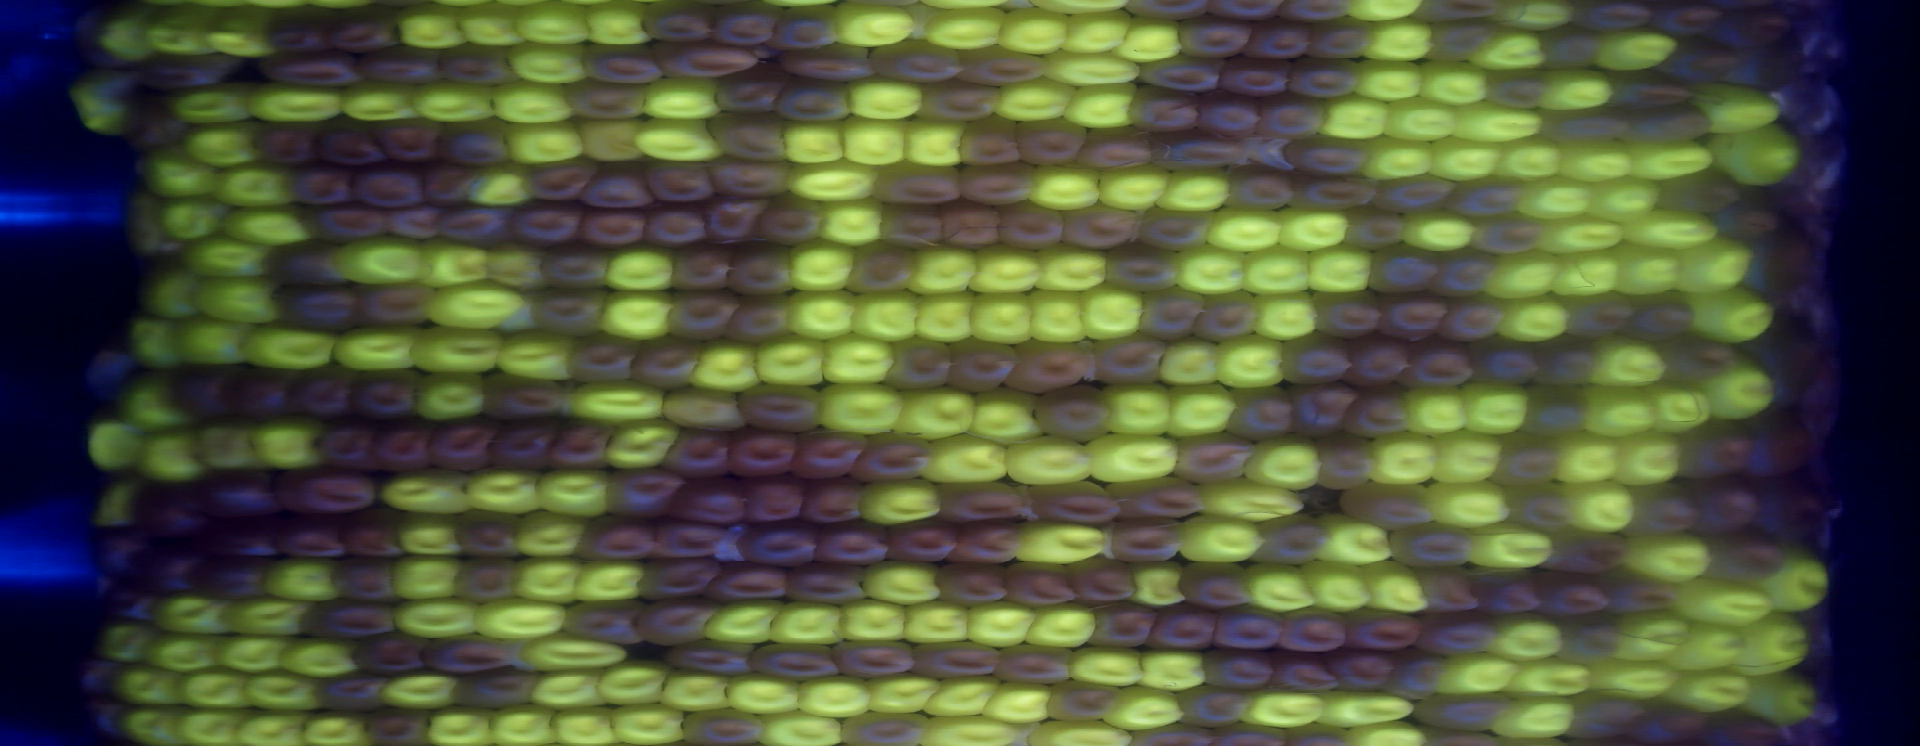fluorescent: (1700, 118, 1806, 190), (1187, 470, 1311, 528), (1684, 73, 1785, 142), (1667, 573, 1778, 635), (1695, 352, 1784, 428), (182, 269, 287, 334), (1080, 429, 1187, 491), (1618, 526, 1716, 593), (997, 429, 1103, 490), (418, 276, 528, 334), (1731, 608, 1820, 681), (1004, 513, 1116, 571), (1171, 510, 1271, 573), (913, 429, 1016, 490), (1686, 282, 1780, 348), (233, 320, 343, 376), (407, 321, 508, 381), (1240, 430, 1326, 501), (773, 154, 883, 209), (809, 377, 909, 439), (1760, 543, 1838, 619), (960, 382, 1049, 448), (1583, 328, 1673, 394), (61, 72, 146, 142), (1660, 617, 1755, 680), (1311, 681, 1420, 735), (238, 76, 351, 127), (331, 230, 430, 289), (373, 462, 473, 521), (109, 369, 192, 439), (566, 375, 673, 429), (1673, 234, 1762, 299), (1607, 605, 1697, 669), (1480, 245, 1572, 307), (629, 109, 729, 167), (525, 463, 618, 524), (683, 332, 768, 399), (891, 380, 982, 442), (851, 475, 949, 533), (853, 556, 951, 614), (493, 325, 583, 387), (518, 630, 634, 677), (958, 239, 1048, 300), (1429, 477, 1520, 538), (1739, 666, 1829, 728), (1485, 688, 1586, 744), (1360, 423, 1442, 490), (197, 1, 280, 67), (246, 410, 334, 473), (1580, 379, 1664, 443), (1427, 646, 1528, 699), (1100, 375, 1182, 441), (216, 201, 318, 254), (1505, 653, 1608, 706), (329, 322, 427, 377), (178, 229, 273, 285), (502, 548, 587, 611), (1464, 516, 1558, 573), (900, 240, 986, 303), (467, 593, 571, 644), (1455, 372, 1536, 439), (187, 414, 269, 479), (1314, 508, 1401, 570), (409, 365, 492, 429), (1128, 642, 1216, 702), (1584, 22, 1682, 76), (1162, 376, 1243, 441), (387, 590, 489, 642), (1583, 654, 1685, 706), (216, 590, 320, 641), (409, 232, 496, 292), (140, 146, 230, 203), (1074, 278, 1149, 348), (118, 307, 192, 377), (1233, 240, 1321, 299), (1212, 328, 1291, 394), (748, 327, 827, 393), (1484, 605, 1569, 666), (1611, 236, 1691, 301), (602, 238, 683, 301), (1562, 475, 1643, 539), (170, 311, 260, 369), (633, 70, 726, 125), (1527, 62, 1620, 118), (1491, 289, 1578, 348), (1234, 684, 1333, 735), (1622, 205, 1727, 254), (457, 461, 545, 518), (1040, 47, 1149, 93), (204, 156, 296, 211), (1060, 639, 1152, 695), (721, 668, 813, 723), (130, 426, 211, 489), (87, 1, 159, 71), (992, 2, 1078, 61), (1237, 557, 1322, 616), (1532, 211, 1635, 260), (73, 410, 149, 477), (1100, 682, 1193, 736), (1430, 424, 1507, 489), (178, 114, 264, 171), (598, 415, 684, 473), (1018, 597, 1104, 654), (1467, 23, 1558, 78), (1621, 134, 1720, 184), (1245, 283, 1325, 345), (782, 234, 862, 296), (1022, 158, 1108, 216), (507, 505, 593, 562), (894, 594, 980, 652), (1296, 557, 1381, 615), (989, 73, 1079, 129), (778, 284, 860, 344), (820, 330, 902, 390), (496, 115, 589, 168), (1054, 4, 1141, 60), (1093, 159, 1180, 216), (140, 1, 218, 64), (571, 111, 654, 170), (1613, 431, 1692, 492), (133, 258, 206, 326), (1665, 661, 1750, 719), (844, 71, 932, 126), (140, 624, 228, 679), (1031, 238, 1112, 298), (1169, 241, 1251, 300), (383, 549, 465, 608), (1409, 53, 1491, 111), (961, 285, 1038, 348), (846, 287, 924, 348), (1356, 559, 1434, 620), (486, 78, 582, 129), (765, 597, 852, 652), (375, 664, 468, 715), (1452, 96, 1547, 146), (920, 2, 1011, 54), (258, 552, 344, 608), (1356, 13, 1441, 69), (1583, 168, 1665, 225), (169, 77, 262, 127), (789, 670, 879, 722), (1398, 379, 1474, 440), (149, 190, 231, 246), (1149, 163, 1234, 217), (1396, 203, 1482, 257), (334, 77, 426, 127), (698, 595, 787, 647), (593, 655, 676, 710), (1513, 173, 1600, 225), (509, 1, 602, 50), (834, 594, 918, 648), (238, 666, 328, 717), (502, 37, 590, 88), (144, 588, 233, 639), (1548, 246, 1625, 305), (1642, 377, 1714, 440), (1201, 205, 1291, 255), (1273, 205, 1357, 258), (463, 157, 538, 217), (835, 111, 911, 170), (1120, 555, 1196, 614), (1062, 78, 1142, 134), (86, 616, 167, 671), (405, 77, 498, 125), (1548, 430, 1625, 488), (100, 660, 191, 709), (655, 666, 743, 717), (775, 114, 853, 170), (479, 239, 552, 299), (1019, 285, 1092, 345), (392, 505, 467, 563), (828, 5, 922, 51), (863, 668, 947, 720), (960, 597, 1041, 650), (211, 627, 291, 681), (1380, 91, 1461, 145), (566, 555, 650, 606), (525, 664, 616, 712), (276, 633, 361, 684), (814, 190, 889, 247), (1153, 332, 1228, 390), (389, 1, 465, 58), (116, 187, 178, 257), (1360, 134, 1441, 186), (576, 1, 660, 51), (1316, 88, 1391, 145), (1429, 134, 1509, 186), (909, 285, 975, 348), (1556, 135, 1635, 187), (920, 673, 1008, 719), (609, 699, 697, 746), (977, 677, 1057, 729), (174, 664, 257, 712), (1349, 54, 1427, 105), (1111, 13, 1185, 66), (901, 111, 966, 171), (454, 1, 529, 53), (913, 710, 1021, 746), (1491, 134, 1567, 183), (419, 703, 504, 746), (482, 699, 561, 746), (170, 703, 253, 746), (754, 706, 842, 746), (1024, 715, 1140, 746), (82, 473, 144, 528), (546, 702, 622, 746), (1484, 1, 1581, 36), (228, 707, 312, 746), (298, 706, 377, 746), (113, 701, 182, 746), (1341, 1, 1431, 28)
nonfluorescent: (1742, 307, 1824, 405), (1739, 213, 1822, 305), (1697, 526, 1795, 598), (122, 475, 222, 545), (1025, 377, 1120, 450), (1749, 472, 1831, 555), (261, 462, 382, 518), (1663, 416, 1757, 488), (1739, 403, 1820, 485), (1333, 477, 1442, 535), (1540, 522, 1640, 586), (627, 590, 727, 653), (733, 376, 831, 440), (1411, 684, 1524, 737), (1103, 472, 1213, 527), (111, 85, 193, 158), (475, 369, 576, 429), (629, 549, 733, 606), (447, 658, 546, 718), (647, 32, 759, 85), (1222, 381, 1304, 453), (1024, 473, 1127, 530), (1005, 334, 1095, 401), (1163, 428, 1258, 490), (1720, 29, 1815, 92), (1275, 372, 1360, 441), (909, 628, 1007, 688), (269, 273, 361, 337), (1273, 327, 1362, 393), (1596, 64, 1695, 122), (1247, 508, 1337, 572), (1592, 563, 1687, 624), (299, 593, 400, 649), (163, 356, 249, 423), (782, 425, 873, 488), (604, 461, 691, 526), (1616, 479, 1703, 544), (1093, 236, 1182, 300), (869, 157, 969, 213), (1654, 34, 1747, 94), (249, 47, 362, 96), (1678, 474, 1763, 539), (282, 359, 362, 428), (193, 464, 288, 523), (1485, 425, 1569, 491), (1611, 100, 1720, 151), (81, 521, 160, 589), (1337, 326, 1417, 394), (1649, 167, 1746, 223), (1338, 601, 1429, 661), (1558, 285, 1641, 350), (562, 594, 654, 653), (744, 633, 842, 688), (192, 545, 277, 609), (351, 274, 441, 334), (69, 344, 148, 412), (804, 517, 898, 575), (340, 361, 426, 424), (820, 632, 924, 684), (223, 360, 305, 425), (1527, 565, 1614, 626), (1382, 518, 1480, 572), (700, 556, 793, 612), (702, 149, 801, 202), (1562, 685, 1649, 745), (261, 236, 351, 294), (348, 624, 438, 681), (1365, 165, 1462, 219), (257, 503, 351, 559), (731, 514, 823, 571), (1651, 334, 1742, 391), (135, 48, 238, 98), (659, 630, 759, 681), (415, 627, 511, 681), (664, 472, 753, 529), (658, 285, 743, 345), (940, 332, 1022, 394), (422, 414, 504, 477), (954, 156, 1044, 212), (867, 37, 969, 87), (133, 534, 211, 600), (1513, 375, 1591, 441), (1101, 512, 1189, 570), (324, 554, 413, 611), (849, 428, 933, 488), (1371, 285, 1456, 345), (1467, 332, 1551, 392), (879, 334, 959, 398), (1036, 676, 1128, 731), (1455, 205, 1547, 260), (1008, 113, 1093, 171), (724, 423, 809, 481), (932, 557, 1018, 616), (1141, 598, 1227, 657), (1395, 336, 1480, 394), (702, 110, 791, 167), (1408, 608, 1498, 664), (1305, 432, 1387, 494), (1062, 550, 1145, 610), (447, 503, 530, 563), (567, 508, 658, 563), (1284, 167, 1384, 217), (577, 157, 661, 216), (1174, 557, 1255, 619), (1422, 12, 1502, 73), (1364, 240, 1445, 301), (880, 514, 966, 572), (722, 239, 804, 299), (951, 43, 1054, 91), (771, 73, 858, 130), (1125, 80, 1209, 138), (1202, 598, 1287, 655), (480, 416, 564, 474), (1468, 566, 1553, 624), (1707, 180, 1780, 246), (560, 75, 656, 125), (934, 477, 1029, 528), (1082, 597, 1163, 657), (1438, 169, 1532, 220), (659, 423, 733, 488), (1304, 285, 1390, 342), (561, 327, 643, 386), (1086, 330, 1168, 388), (624, 331, 702, 393), (1537, 103, 1637, 151), (764, 2, 847, 60), (947, 513, 1030, 571), (69, 1, 129, 81), (987, 198, 1071, 255), (520, 153, 605, 209), (1003, 554, 1084, 612), (1259, 646, 1347, 699), (1188, 285, 1264, 348), (1133, 284, 1210, 345), (331, 502, 408, 563), (1269, 600, 1352, 657), (1076, 122, 1163, 176), (872, 195, 951, 254), (784, 557, 877, 608), (322, 2, 407, 58), (1174, 9, 1255, 66), (311, 115, 392, 173), (364, 419, 444, 477), (845, 240, 921, 301), (637, 157, 725, 209), (432, 201, 520, 254), (367, 111, 449, 168), (910, 77, 1007, 125), (263, 2, 342, 61), (1531, 331, 1609, 390), (1283, 51, 1367, 107), (503, 196, 587, 251), (533, 238, 616, 293), (431, 116, 514, 171), (1427, 243, 1501, 304), (1220, 160, 1300, 217), (531, 282, 609, 341), (1198, 644, 1280, 699), (576, 40, 667, 89), (1414, 563, 1488, 625), (1058, 201, 1141, 255), (311, 668, 394, 722), (733, 470, 813, 527), (784, 42, 882, 87), (1149, 130, 1255, 171), (348, 160, 433, 212), (993, 637, 1079, 688), (1629, 695, 1714, 746), (749, 190, 824, 249), (795, 472, 869, 530), (447, 549, 522, 608), (1135, 50, 1227, 98), (636, 198, 715, 254), (705, 1, 789, 54), (1338, 382, 1414, 440), (1133, 202, 1217, 254), (1284, 134, 1378, 180), (711, 62, 786, 120), (1550, 610, 1625, 668), (1380, 642, 1445, 708), (283, 156, 362, 209), (1622, 288, 1698, 344), (958, 110, 1027, 171), (936, 194, 1007, 254), (1251, 92, 1332, 145), (1340, 200, 1413, 257), (1324, 646, 1402, 699), (699, 191, 774, 247), (310, 420, 384, 477), (1502, 477, 1572, 537), (1712, 1, 1795, 51), (665, 236, 736, 295), (433, 42, 525, 87), (304, 203, 393, 250), (722, 292, 800, 345), (644, 514, 729, 563), (675, 704, 774, 746), (1478, 64, 1554, 118), (577, 202, 654, 255), (544, 416, 617, 472), (200, 518, 291, 562), (1435, 290, 1509, 345), (246, 120, 326, 170), (353, 44, 441, 89), (1693, 704, 1789, 746), (1238, 17, 1315, 69), (636, 1, 722, 47), (414, 158, 492, 208), (1213, 51, 1293, 100), (1176, 681, 1255, 730), (1196, 87, 1266, 142), (1536, 22, 1607, 76), (836, 706, 931, 746), (356, 702, 437, 746), (1572, 1, 1667, 38), (69, 693, 136, 744), (96, 573, 158, 627), (1644, 1, 1725, 43), (65, 652, 132, 701), (377, 205, 447, 250), (1411, 1, 1509, 29), (1272, 1, 1356, 29), (1116, 1, 1213, 24), (1202, 1, 1292, 26)
